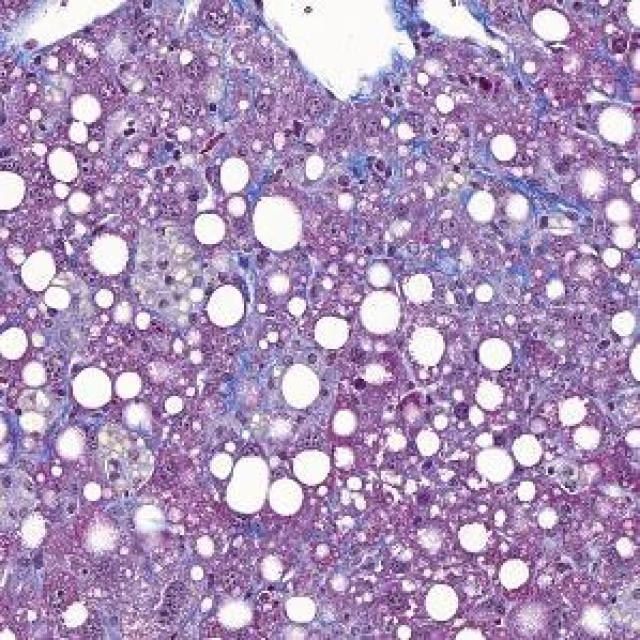fibrosis: (298, 90, 533, 259)
